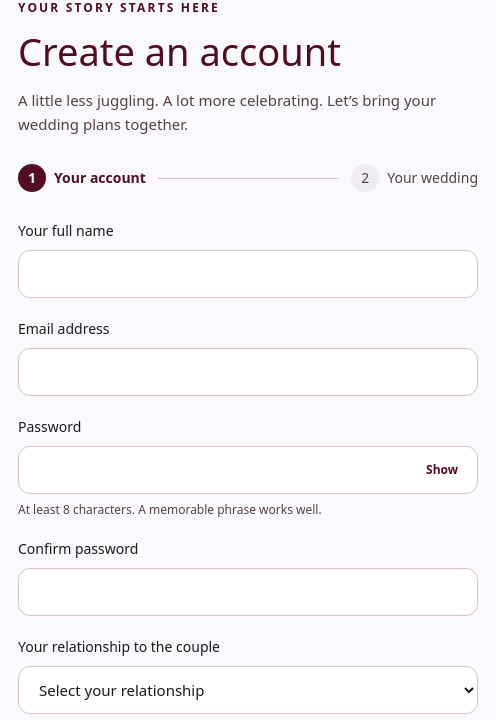
Test: signup explains the approved password minimum before advancing
Type "Priya" into the field labelled "Your full name" at (248, 274), box [18,250,478,298]
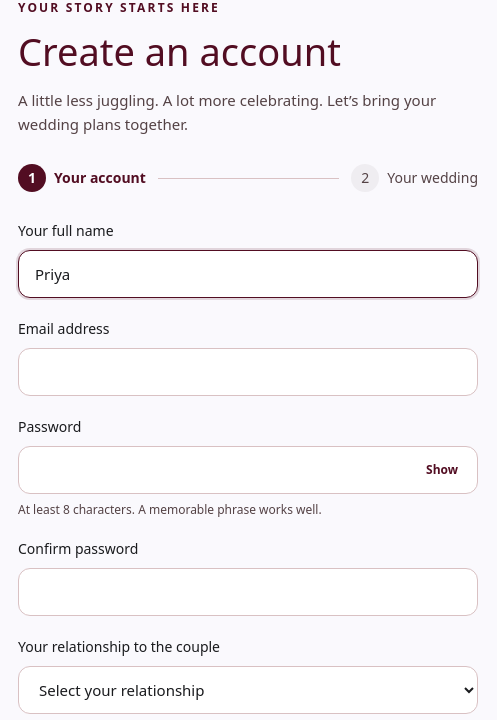
Type "priya@example.com" into the field labelled "Email address" at (248, 372), box [18,348,478,396]
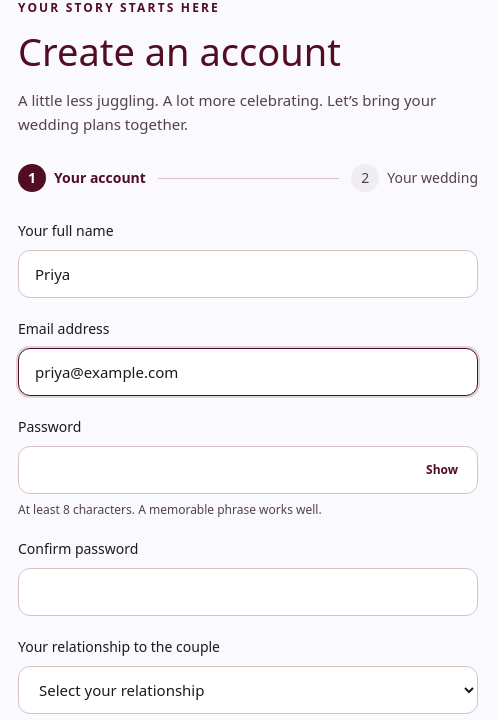
Type "1234567" into the password field labelled "Password" at (248, 470), box [18,446,478,494]
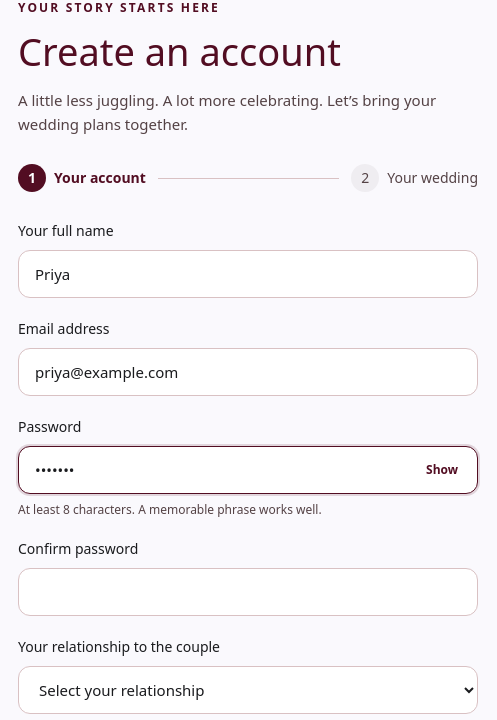
Type "1234567" into the password field labelled "Confirm password" at (248, 592), box [18,568,478,616]
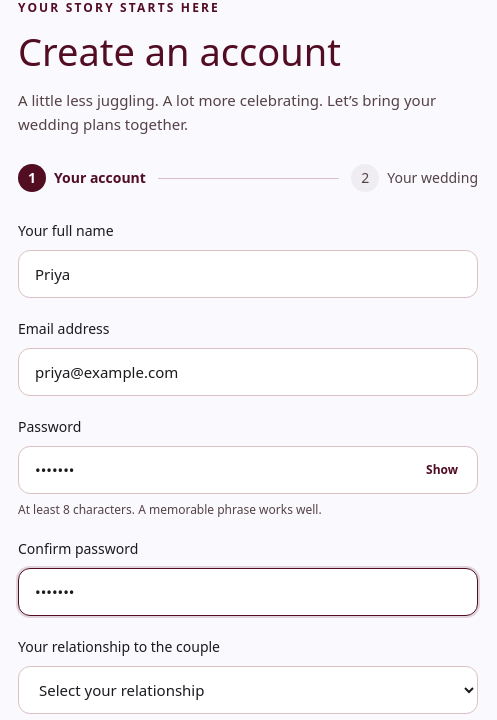
Select "Bride" in the dropdown labelled "Your relationship to the couple" at (248, 690), box [18,666,478,714]
(page scrolled)
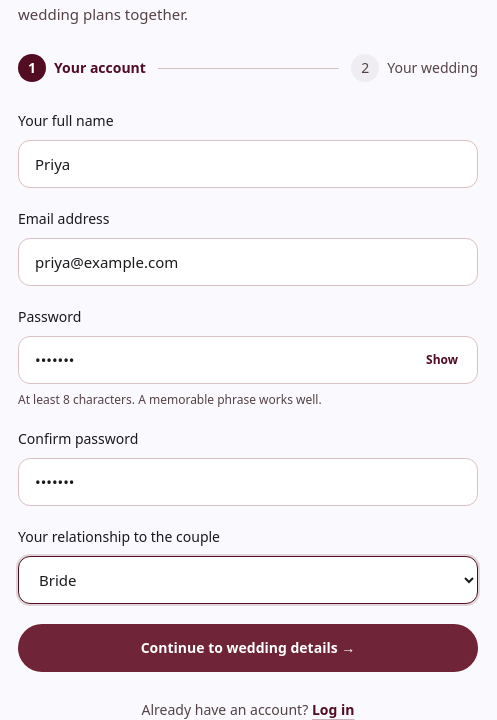
Click the button "Continue to wedding details →" at (248, 648), box [18,624,478,672]
(page scrolled)
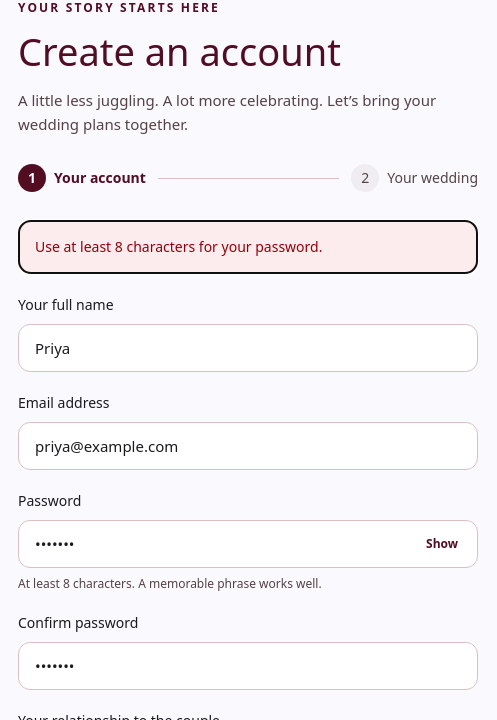
Expected: the heading "Create an account" is shown, [18,25,341,77]
Now the message shows "at least 8 characters", box [35,237,322,256]
